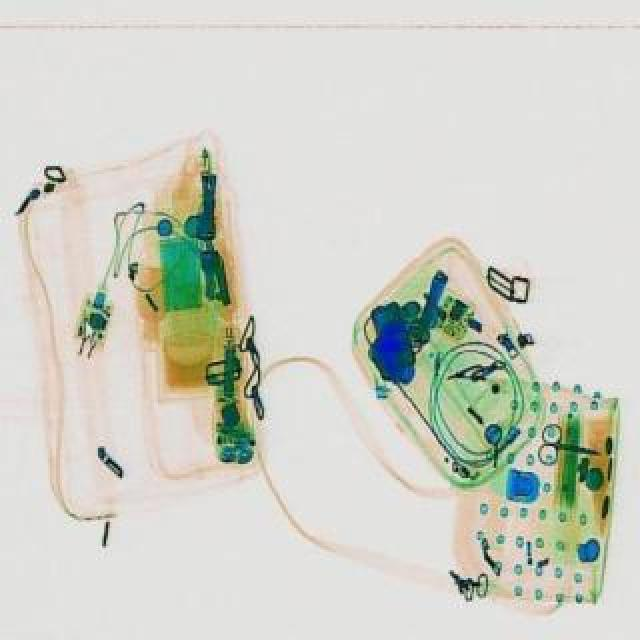pliers: (534, 420, 606, 470)
